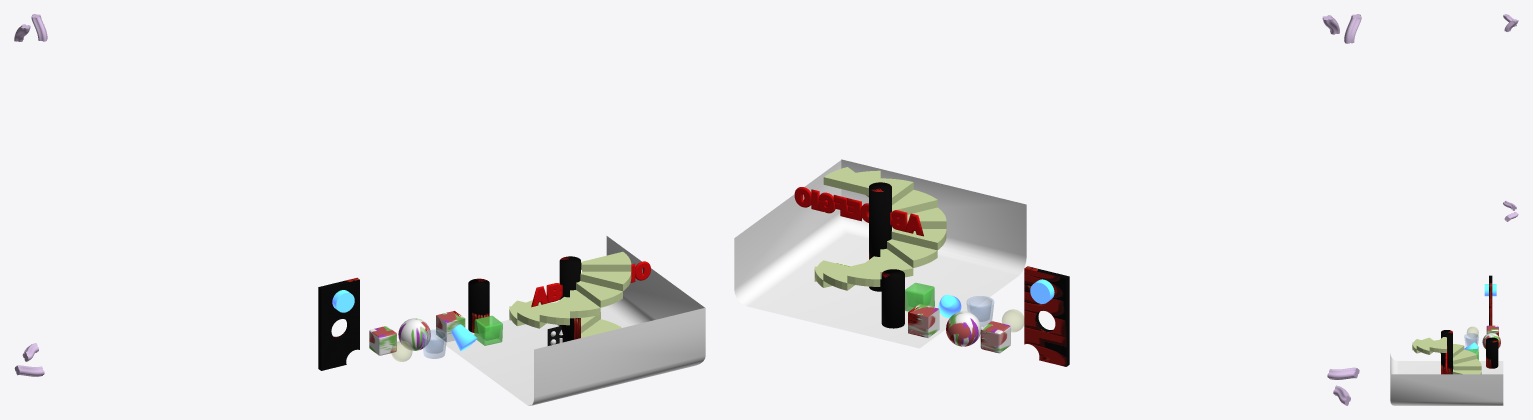
File: oasobi.glb
3 views of the same model, side by side, from view 1: azimuth 30°, elevation 25°; view 2: azimuth 150°, elevation 25°; view 3: azimuth 270°, elevation 25° (orthographic). The views are drawn at different scales.
Parts seen in each view (by area): view 1: yuka, 平面, 立方体.003, 円柱.004, 円柱.002, text2, 球.001, 立方体.001, 立方体, 円柱.001, 立方体.002; view 2: yuka, 平面, 立方体.003, text2, 円柱.004, 円柱.002, 球.001, 立方体.002, 立方体, 立方体.001, 円柱.001; view 3: yuka, 平面, 円柱.004, 円柱.002, 立方体.003, 円柱.001, 球.001.
Boxes of the visible parts, x1=… form: yuka: x1=435, y1=236, x2=705, y2=405; 平面: x1=509, y1=251, x2=631, y2=337; 立方体.003: x1=318, y1=277, x2=359, y2=370; 円柱.004: x1=559, y1=256, x2=580, y2=342; 円柱.002: x1=468, y1=278, x2=489, y2=332; text2: x1=531, y1=261, x2=650, y2=307; 球.001: x1=398, y1=318, x2=430, y2=350; 立方体.001: x1=474, y1=315, x2=502, y2=345; 立方体: x1=369, y1=326, x2=396, y2=355; 円柱.001: x1=421, y1=330, x2=446, y2=358; 立方体.002: x1=436, y1=311, x2=465, y2=342; yuka: x1=734, y1=159, x2=1026, y2=348; 平面: x1=814, y1=167, x2=946, y2=290; 立方体.003: x1=1024, y1=266, x2=1069, y2=366; text2: x1=794, y1=187, x2=923, y2=236; 円柱.004: x1=869, y1=182, x2=891, y2=291; 円柱.002: x1=881, y1=269, x2=904, y2=328; 球.001: x1=946, y1=311, x2=981, y2=346; 立方体.002: x1=908, y1=304, x2=939, y2=337; 立方体: x1=980, y1=321, x2=1010, y2=353; 立方体.001: x1=905, y1=282, x2=934, y2=311; 円柱.001: x1=966, y1=296, x2=993, y2=327; yuka: x1=1390, y1=354, x2=1503, y2=405; 平面: x1=1412, y1=337, x2=1481, y2=374; 円柱.004: x1=1441, y1=330, x2=1452, y2=374; 円柱.002: x1=1486, y1=337, x2=1498, y2=368; 立方体.003: x1=1489, y1=275, x2=1492, y2=325; 円柱.001: x1=1464, y1=333, x2=1478, y2=346; 球.001: x1=1482, y1=333, x2=1500, y2=348.
Bounding box in the file's own units: 62.81 × 42.13 × 20.98.
Materials: 15 (5 with a texture image).
